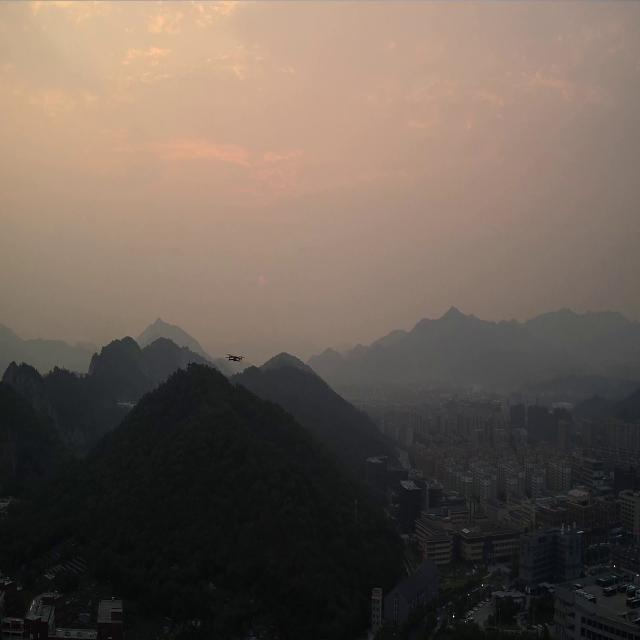UAV: (225, 354, 245, 362)
